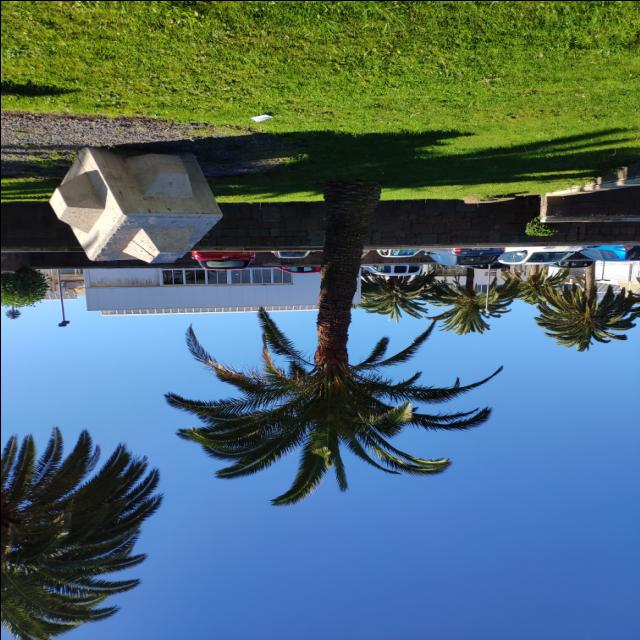Palm-Trees: (177, 189, 482, 500), (528, 262, 640, 350), (432, 265, 504, 334)
